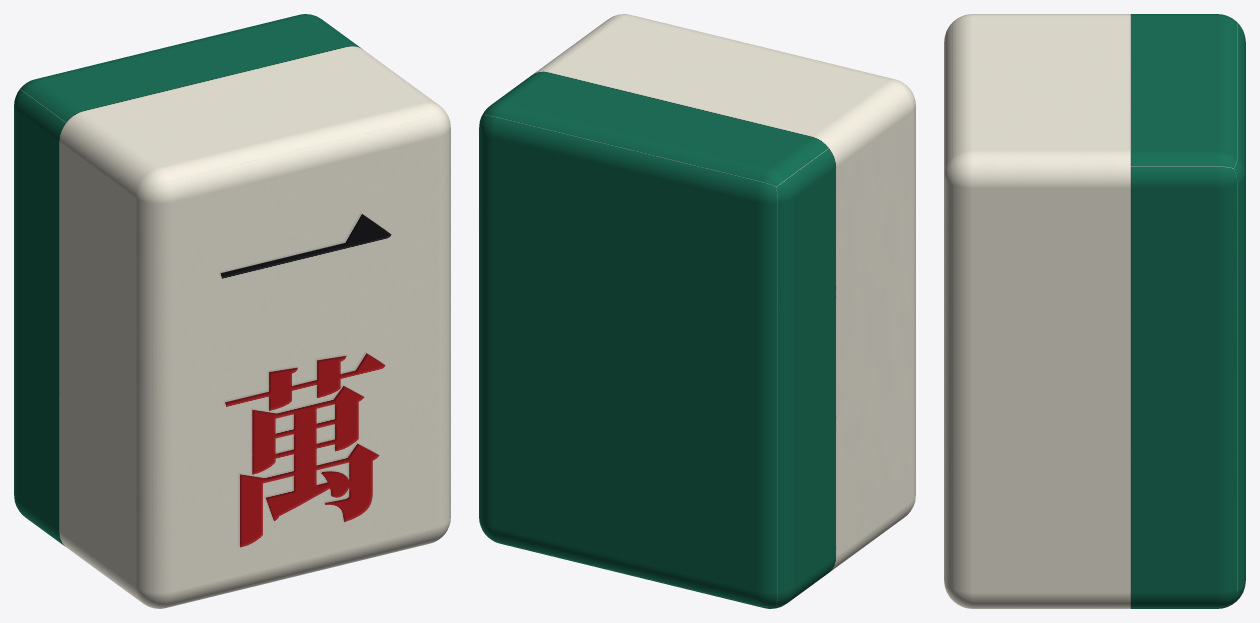
File: tile_1m.obj
3 renders of one model, left to right at view 1: azimuth 30°, elevation 25°; view 2: azimuth 150°, elevation 25°; view 3: azimuth 270°, elevation 25°, orthographic. The views are drawn at different scales.
Visible parts, largest first — view 1: tile_1m; view 2: tile_1m; view 3: tile_1m.
Boxes of the visible parts, <box> form: tile_1m: <box>14,14,450,608</box>; tile_1m: <box>479,14,915,608</box>; tile_1m: <box>944,14,1245,608</box>.
Bounding box in the file's own units: 0.026 × 0.035 × 0.021.
1 material, 1 textured.
